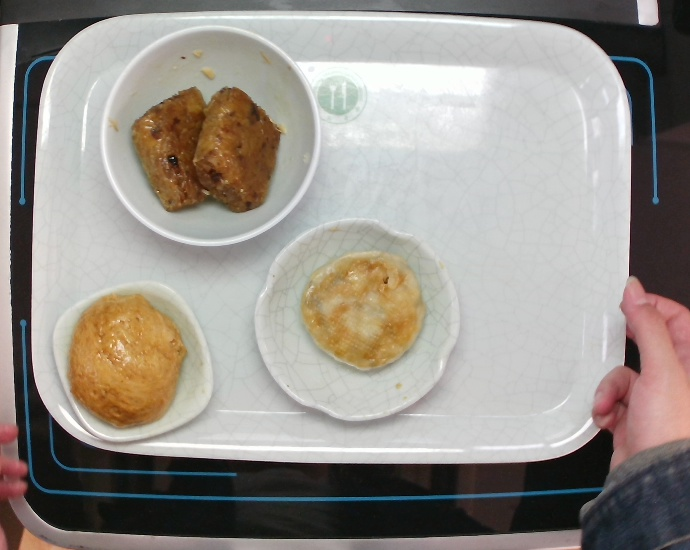JYsf-Ao_Yuan_Wan: (248, 214, 465, 425)
JYsf-Fan_Wan: (91, 18, 327, 254)
JYsf-Si_Fang_Die: (46, 277, 218, 446)
